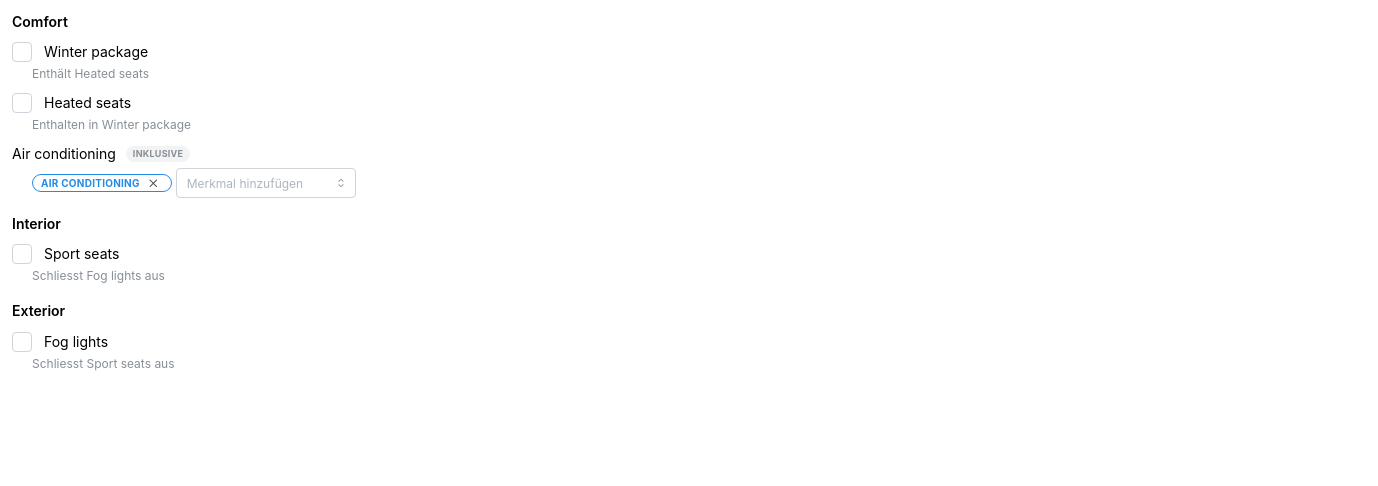
OptionsTab › skipping the package offer never adds the contents
The width and height of the screenshot is (1378, 486).
Click the checkbox labelled "Winter package" at (22, 52), box x1=12 y1=42 x2=32 y2=62
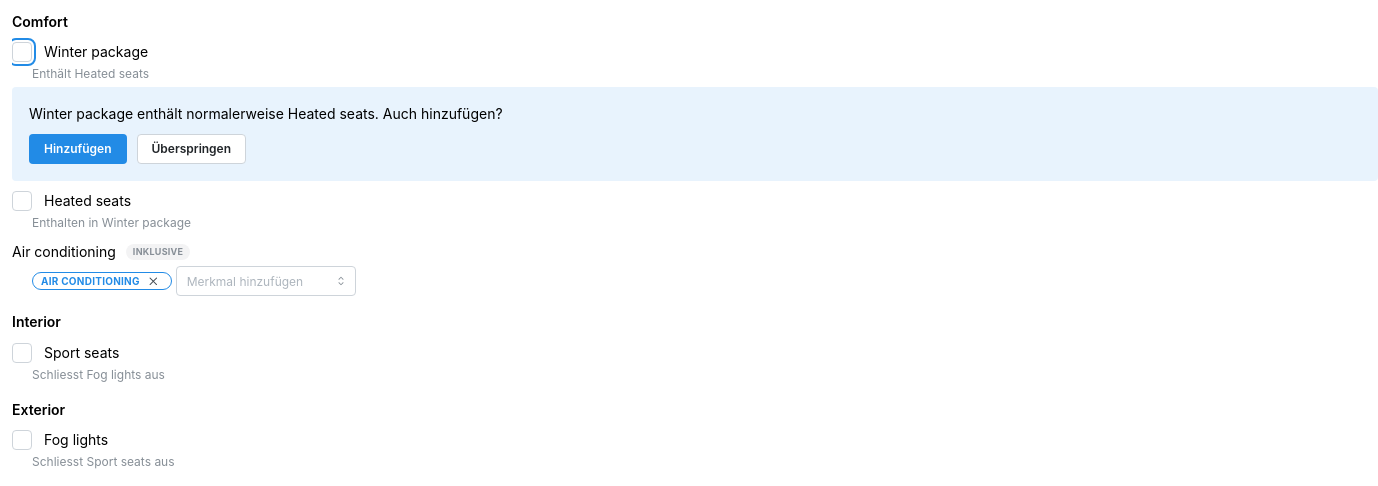
Click the button "Überspringen" at (191, 149), box x1=136 y1=134 x2=246 y2=164
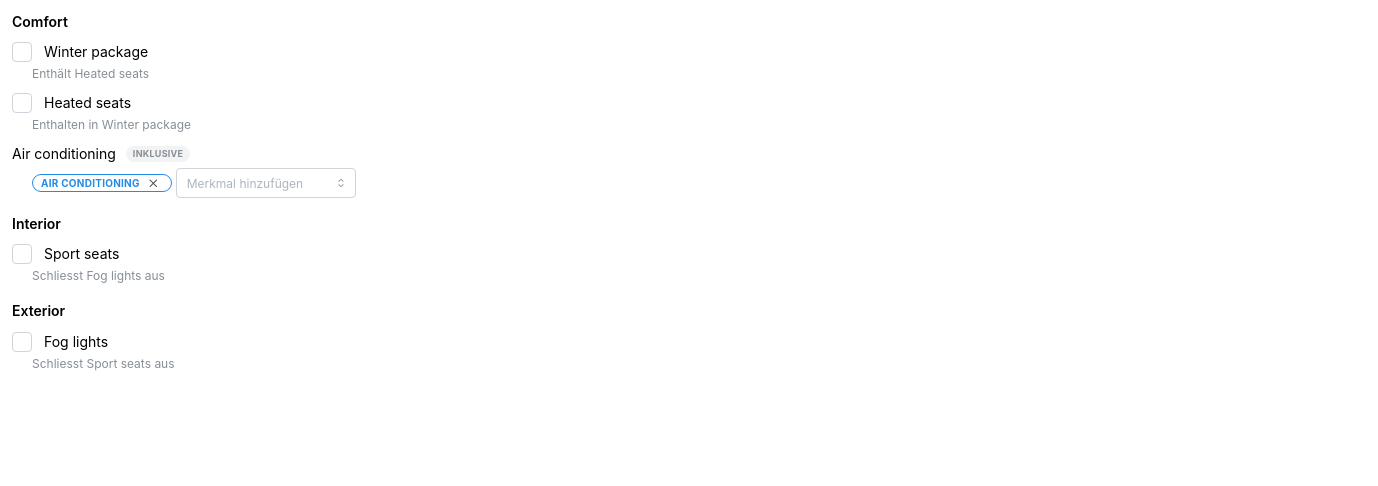
Expected: the message with test id "package-offer-opt-pack" is gone
